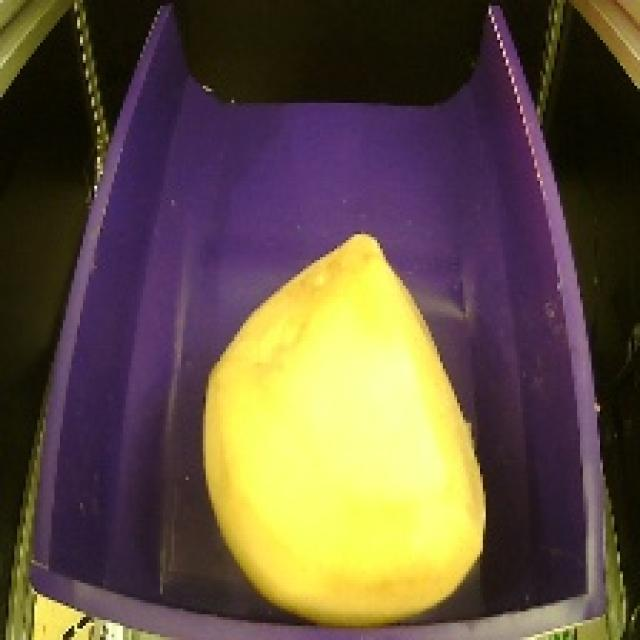full_potato: (181, 210, 500, 640)
